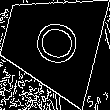O_W: (22, 15, 80, 70)
